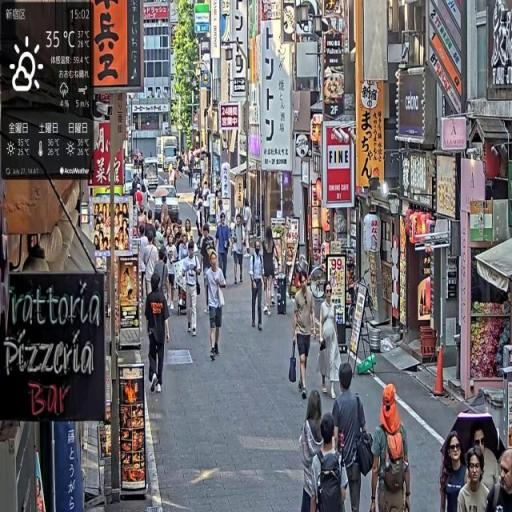person: (333, 363, 376, 512), (371, 383, 413, 512), (312, 412, 352, 512), (293, 269, 318, 405), (299, 394, 327, 511), (147, 266, 172, 395), (205, 248, 227, 366), (319, 283, 341, 400), (441, 430, 472, 511), (457, 444, 492, 512), (181, 239, 203, 336), (249, 237, 267, 332), (486, 446, 512, 511), (215, 212, 233, 285), (231, 213, 246, 287), (166, 235, 179, 311)
